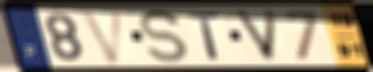7: (282, 9, 323, 63)
8: (44, 12, 86, 62)
S: (138, 8, 190, 65)
T: (185, 11, 224, 62)
V: (78, 8, 127, 66), (231, 8, 279, 64)
